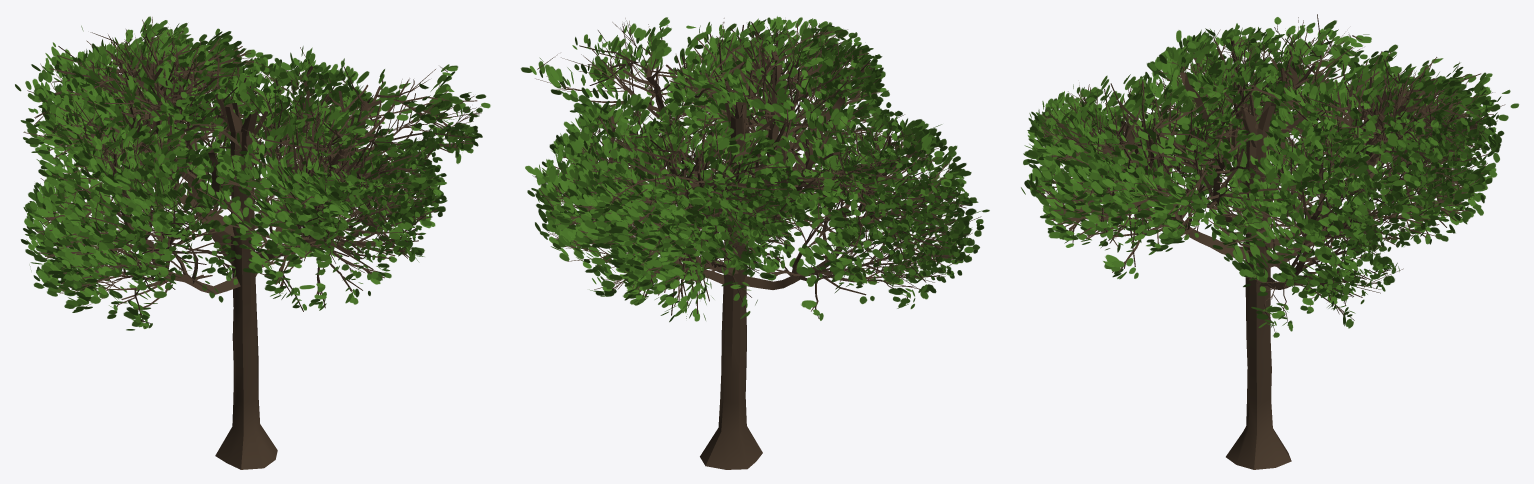
3 views of the same model, side by side, from view 1: azimuth 30°, elevation 25°; view 2: azimuth 150°, elevation 25°; view 3: azimuth 270°, elevation 25° (orthographic).
Parts seen in each view (by area): view 1: oak 01.001_trunk_Mat.001_0.056; view 2: oak 01.001_trunk_Mat.001_0.056; view 3: oak 01.001_trunk_Mat.001_0.056.
Part boxes in pixels (bbox=[...]): oak 01.001_trunk_Mat.001_0.056: bbox=[15, 16, 490, 469]; oak 01.001_trunk_Mat.001_0.056: bbox=[520, 16, 989, 469]; oak 01.001_trunk_Mat.001_0.056: bbox=[1021, 14, 1519, 469].
Bounding box in the file's own units: 5.54 × 4.4 × 5.43.
2 materials, 1 textured.
